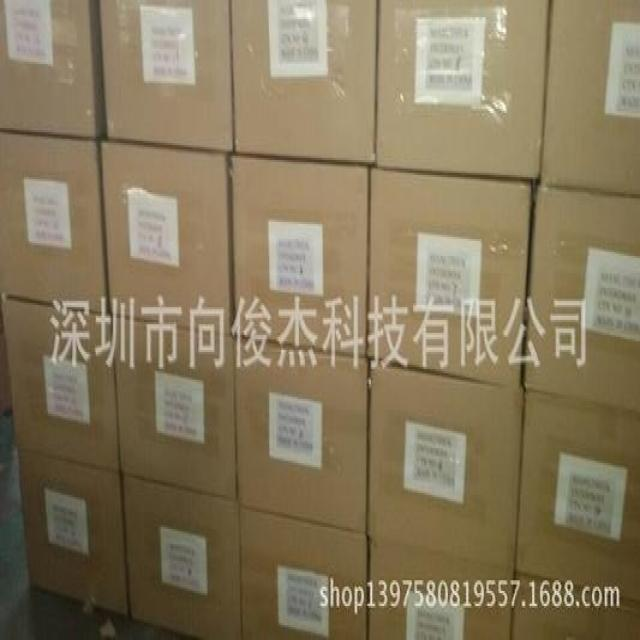Carton: (0, 0, 228, 608), (110, 316, 365, 636), (233, 2, 545, 179), (228, 156, 366, 527), (369, 169, 531, 373), (367, 367, 516, 567), (518, 390, 636, 606), (525, 192, 638, 410), (100, 2, 231, 145), (544, 4, 639, 190)
